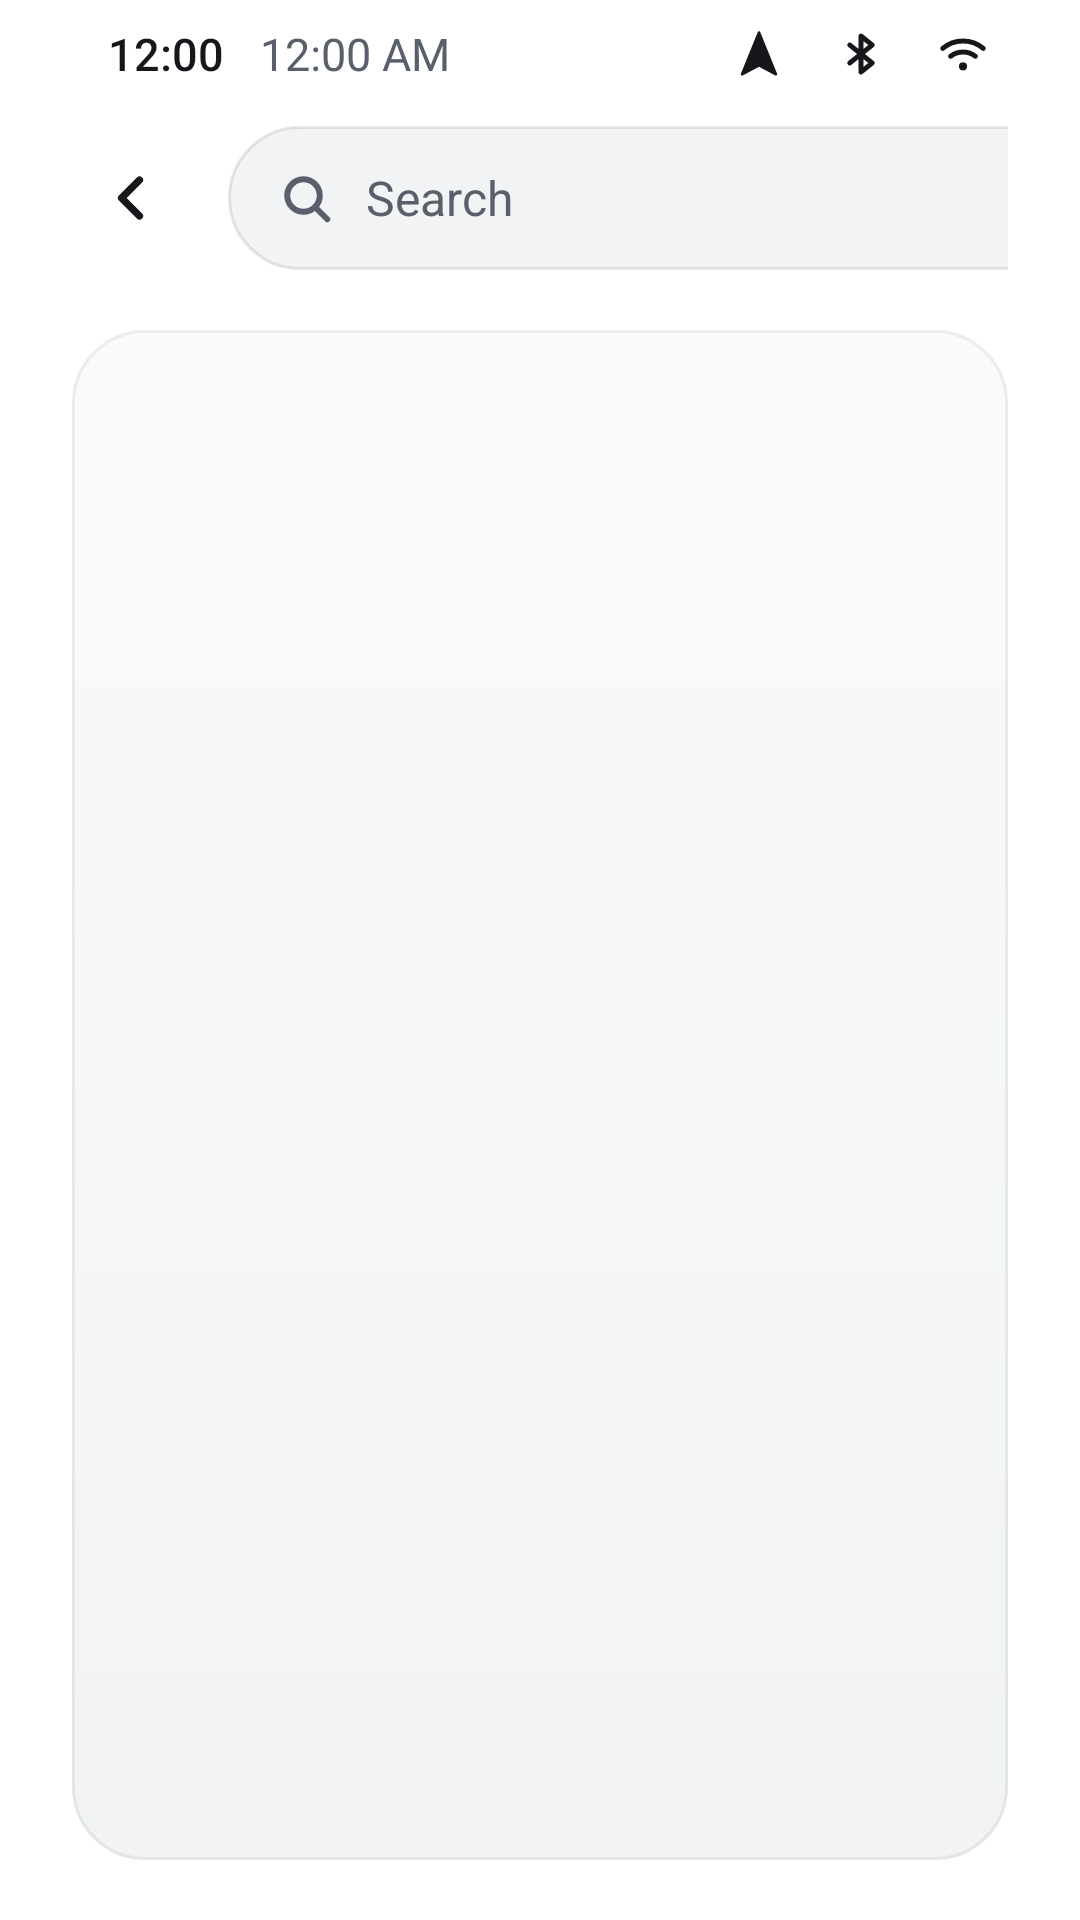

Where icons sit on this 1080px×1920px app screen, as (x1, y1, x2, y2):
Back: (117, 176, 144, 220)
wifi: (940, 38, 986, 71)
